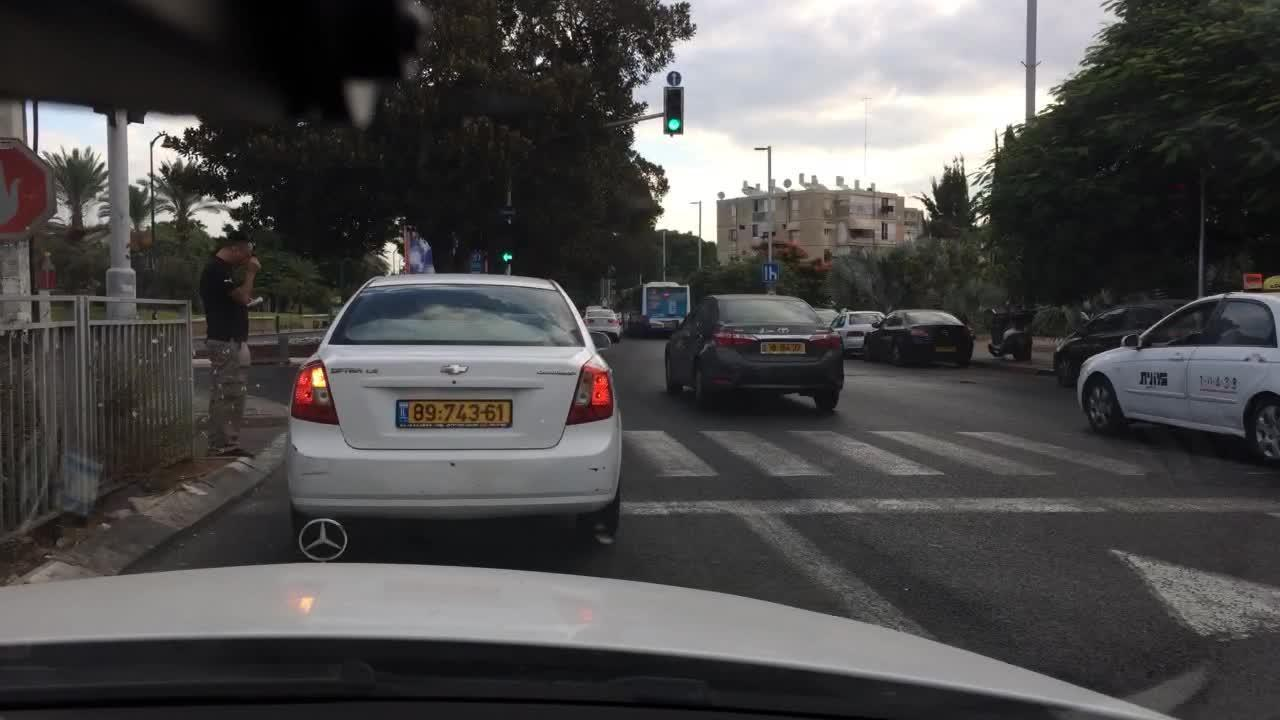Mercedes: (283, 501, 370, 576)
chevrolet: (433, 361, 480, 387)
